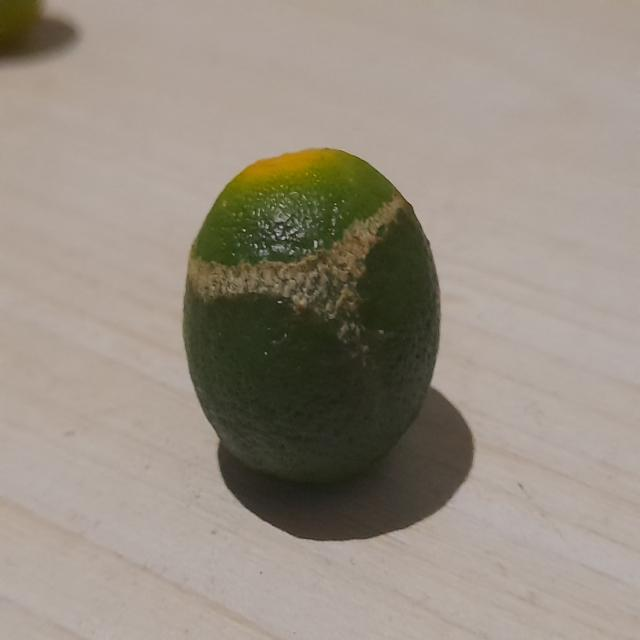thrips: (182, 144, 444, 496)
